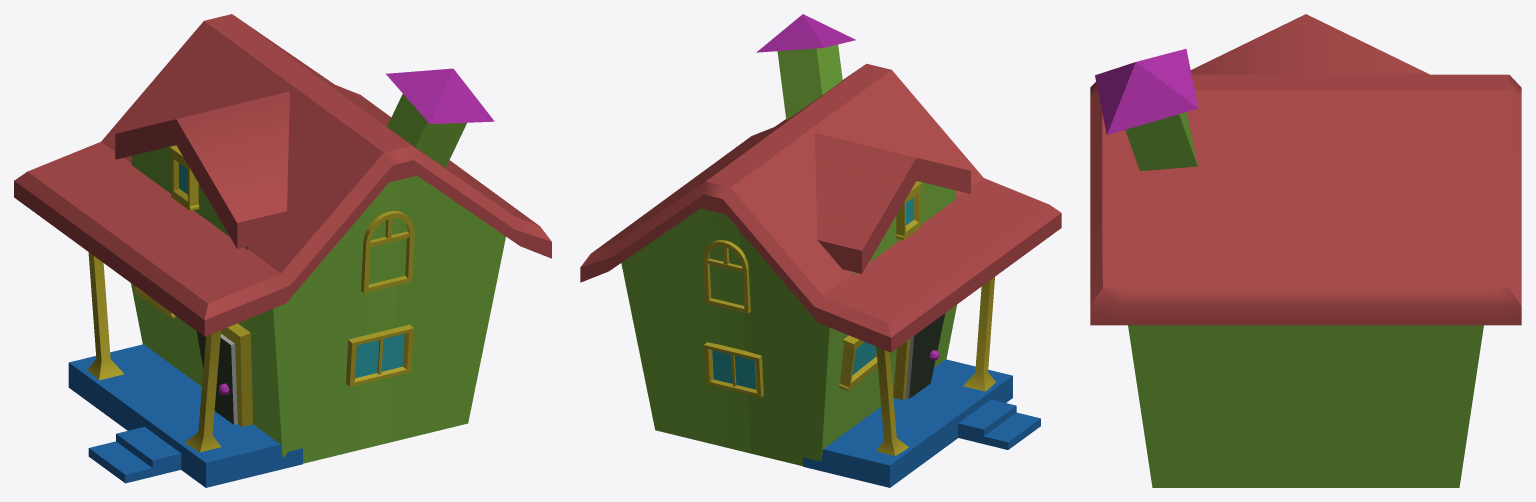
The model's file is SM_S_Building_B.fbx.
3 renders of one model, left to right at view 1: azimuth 30°, elevation 25°; view 2: azimuth 150°, elevation 25°; view 3: azimuth 270°, elevation 25°, orthographic. The views are drawn at different scales.
Visible parts, largest first — view 1: SM_S_Building_B; view 2: SM_S_Building_B; view 3: SM_S_Building_B.
Boxes of the visible parts, x1,y1,x2,y2 form: SM_S_Building_B: (14, 14, 551, 487); SM_S_Building_B: (580, 14, 1061, 487); SM_S_Building_B: (1090, 14, 1521, 487).
Size of what is drawn, in the model's own units: 1437 by 1338 by 1264.
